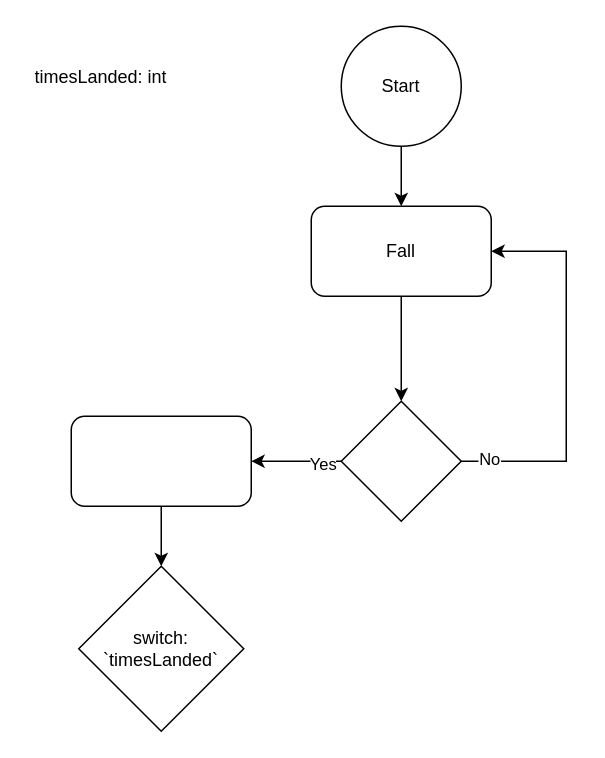
The diagram is 605 pixels wide and 758 high, and some of its shapes have lost their labels. Here are the shapes that lost their labels. From the top down, the centre of each, then its label:
At point 160,460: "Increment `timesLanded`".
At point 400,460: "On ground?".
